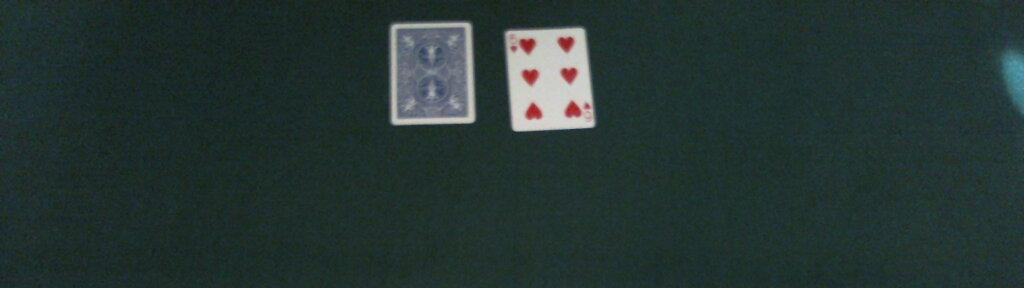back: (389, 21, 474, 123)
six: (503, 27, 596, 132)
